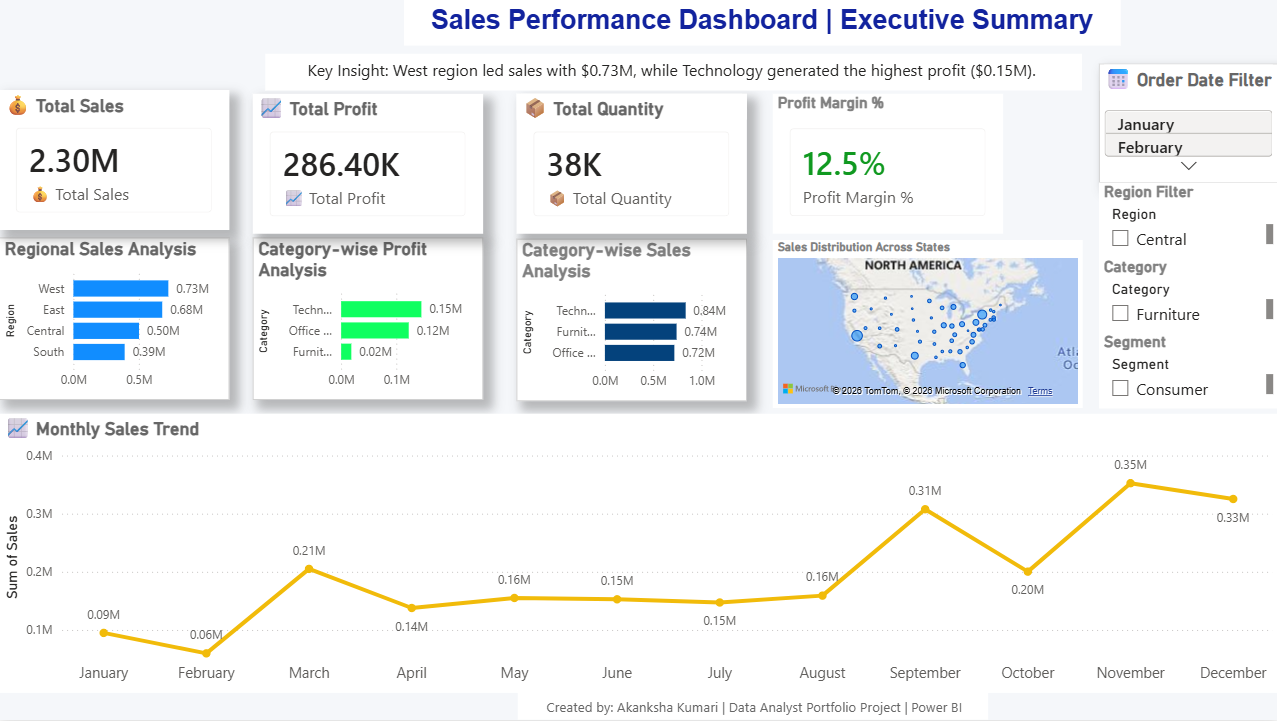

This screenshot's page, from the dashboard's own definition file:
{"tool":"powerbi","page":{"name":"Page 1","canvas":[1280,720],"ordinal":0},"visuals":[{"type":"clusteredBarChart","title":"Regional Sales Analysis","fields":{"Category":["Sample - Superstore.Region"],"Y":["Sum(Sample - Superstore.Sales)"]},"box":[0,237.8,230.5,162.2],"z":0},{"type":"clusteredBarChart","title":"Category-wise Sales Analysis","fields":{"Category":["Sample - Superstore.Category"],"Y":["Sum(Sample - Superstore.Sales)"]},"box":[517.1,239,230,162],"z":1000},{"type":"clusteredBarChart","title":"Category-wise Profit Analysis","fields":{"Category":["Sample - Superstore.Category"],"Y":["Sum(Sample - Superstore.Profit)"]},"box":[253.7,237.8,230,162],"z":2000},{"type":"cardVisual","title":"📅 Order Date Filter","fields":{"Data":["Sum(Sample - Superstore.Sales)"],"Rows":["Sample - Superstore.Order Date.Variation.Date Hierarchy.Month"]},"box":[1100,63.4,180.5,119.5],"z":3000},{"type":"cardVisual","title":"💰 Total Sales","fields":{"Data":["Sum(Sample - Superstore.Sales)"]},"box":[0,90.2,230,140],"z":4000},{"type":"cardVisual","title":"📈 Total Profit","fields":{"Data":["Sum(Sample - Superstore.Profit)"]},"box":[253.7,93.9,230,140],"z":5000},{"type":"cardVisual","title":"📦 Total Quantity","fields":{"Data":["Sum(Sample - Superstore.Quantity)"]},"box":[517.1,93.9,230,140],"z":6000},{"type":"textbox","box":[405.3,0,716.4,45.3],"z":7000},{"type":"textbox","box":[518.7,693,470,27.4],"z":8000},{"type":"lineChart","title":"📈 Monthly Sales Trend","fields":{"Y":["Sum(Sample - Superstore.Sales)"],"Category":["Sample - Superstore.Order Date.Variation.Date Hierarchy.Month"]},"box":[0,413.4,1280.5,279.3],"z":9000},{"type":"textbox","box":[265.9,53.7,817.1,36.6],"z":10000},{"type":"slicer","title":"Region Filter ","fields":{"Values":["Sample - Superstore.Region"]},"box":[1100,182.9,180.5,76.8],"z":11000},{"type":"slicer","title":"Category","fields":{"Values":["Sample - Superstore.Category"]},"box":[1100,257.3,180.5,76],"z":12000},{"type":"slicer","title":"Segment","fields":{"Values":["Sample - Superstore.Segment"]},"box":[1100,332.9,180.5,75.6],"z":13000},{"type":"cardVisual","title":"Profit Margin %","fields":{"Data":["Sample - Superstore.Profit Margin %"]},"box":[773.2,93.9,230.5,140.2],"z":14000},{"type":"map","title":"Sales Distribution Across States","fields":{"Category":["Sample - Superstore.State"],"Size":["Sum(Sample - Superstore.Sales)"]},"box":[773.2,240.2,309.8,168.3],"z":14001}]}

Visuals, with their boxes in screenshot pixels (x1, y1, x2, y2), scaled from the page's 1280x720 canvas onto the 1277x721 screenshot:
"Regional Sales Analysis" clusteredBarChart: [left=0, top=238, right=230, bottom=401]
"Category-wise Sales Analysis" clusteredBarChart: [left=516, top=239, right=745, bottom=402]
"Category-wise Profit Analysis" clusteredBarChart: [left=253, top=238, right=483, bottom=400]
"📅 Order Date Filter" cardVisual: [left=1097, top=63, right=1276, bottom=183]
"💰 Total Sales" cardVisual: [left=0, top=90, right=229, bottom=231]
"📈 Total Profit" cardVisual: [left=253, top=94, right=483, bottom=234]
"📦 Total Quantity" cardVisual: [left=516, top=94, right=745, bottom=234]
textbox: [left=404, top=0, right=1119, bottom=45]
textbox: [left=517, top=694, right=986, bottom=720]
"📈 Monthly Sales Trend" lineChart: [left=0, top=414, right=1276, bottom=694]
textbox: [left=265, top=54, right=1080, bottom=90]
"Region Filter " slicer: [left=1097, top=183, right=1276, bottom=260]
"Category" slicer: [left=1097, top=258, right=1276, bottom=334]
"Segment" slicer: [left=1097, top=333, right=1276, bottom=409]
"Profit Margin %" cardVisual: [left=771, top=94, right=1001, bottom=234]
"Sales Distribution Across States" map: [left=771, top=241, right=1080, bottom=409]
